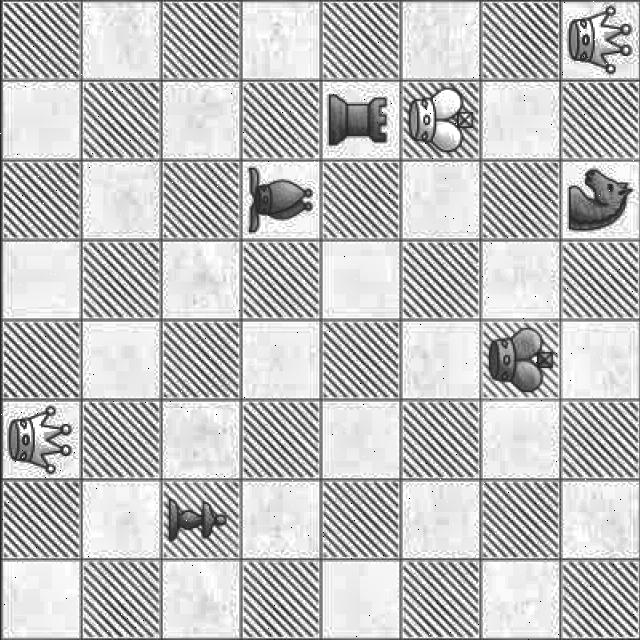Black Knight: (561, 159, 633, 239)
black bishop: (239, 166, 316, 240)
black king: (479, 322, 558, 397)
black pawn: (160, 487, 238, 551)
black rook: (316, 85, 401, 154)
white king: (400, 85, 484, 156)
white queen: (0, 398, 82, 476), (560, 7, 636, 77)
